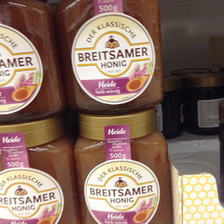honey: (58, 1, 170, 111), (71, 113, 177, 224), (2, 123, 78, 224)
